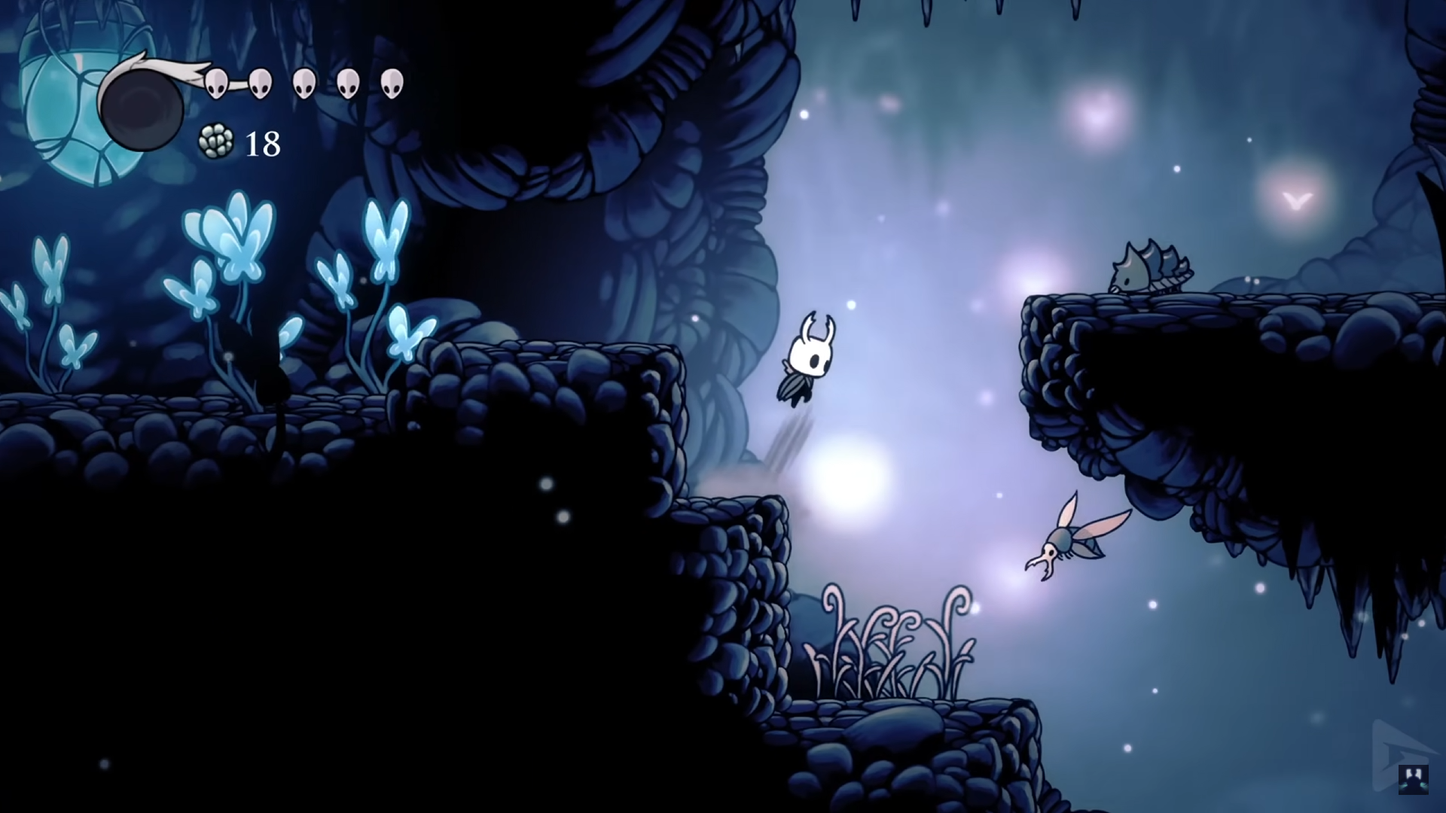HK: (777, 307, 836, 414)
